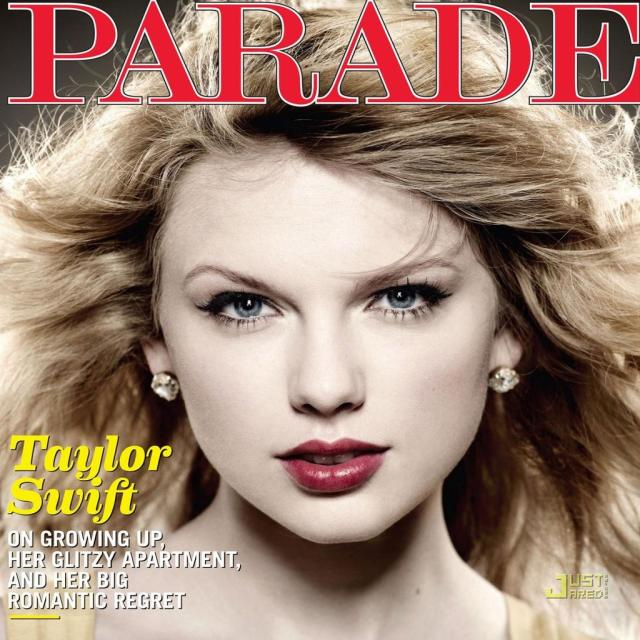Face: (147, 139, 505, 550)
